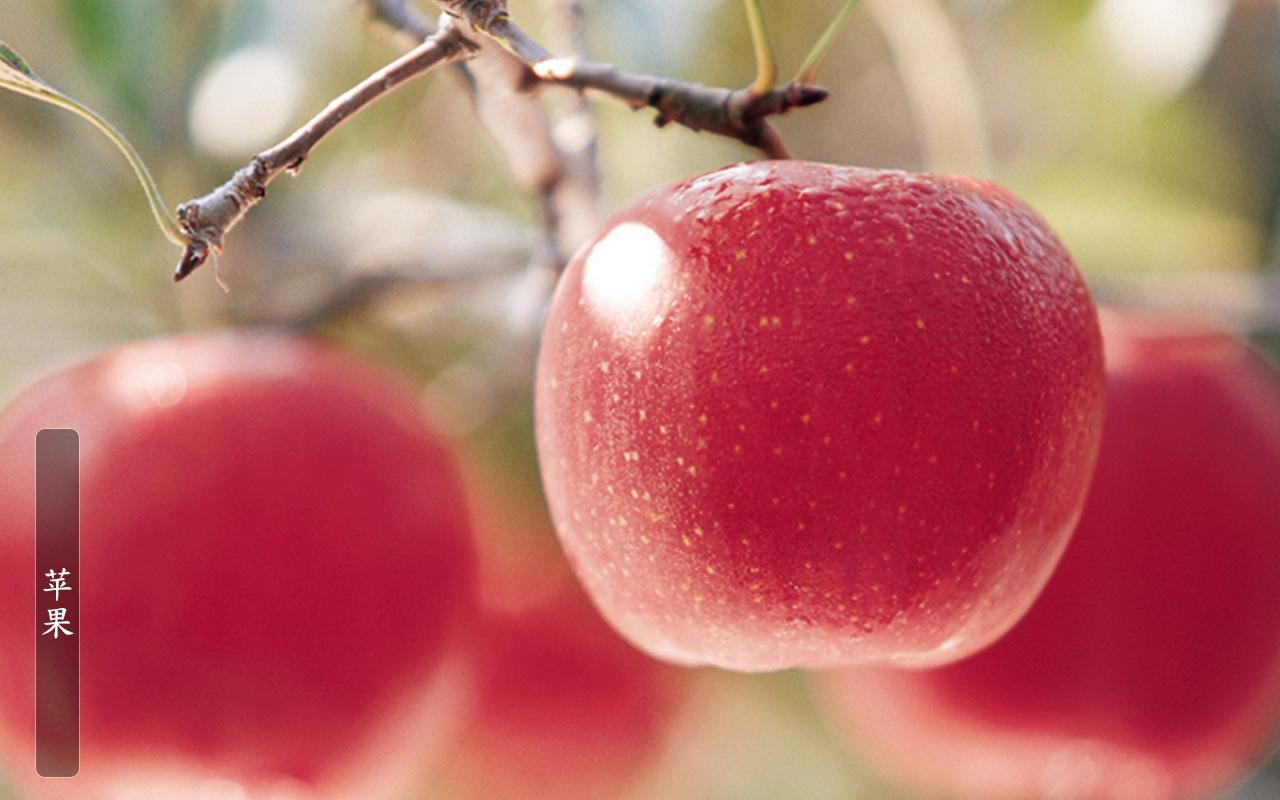apple: (523, 158, 1107, 680)
